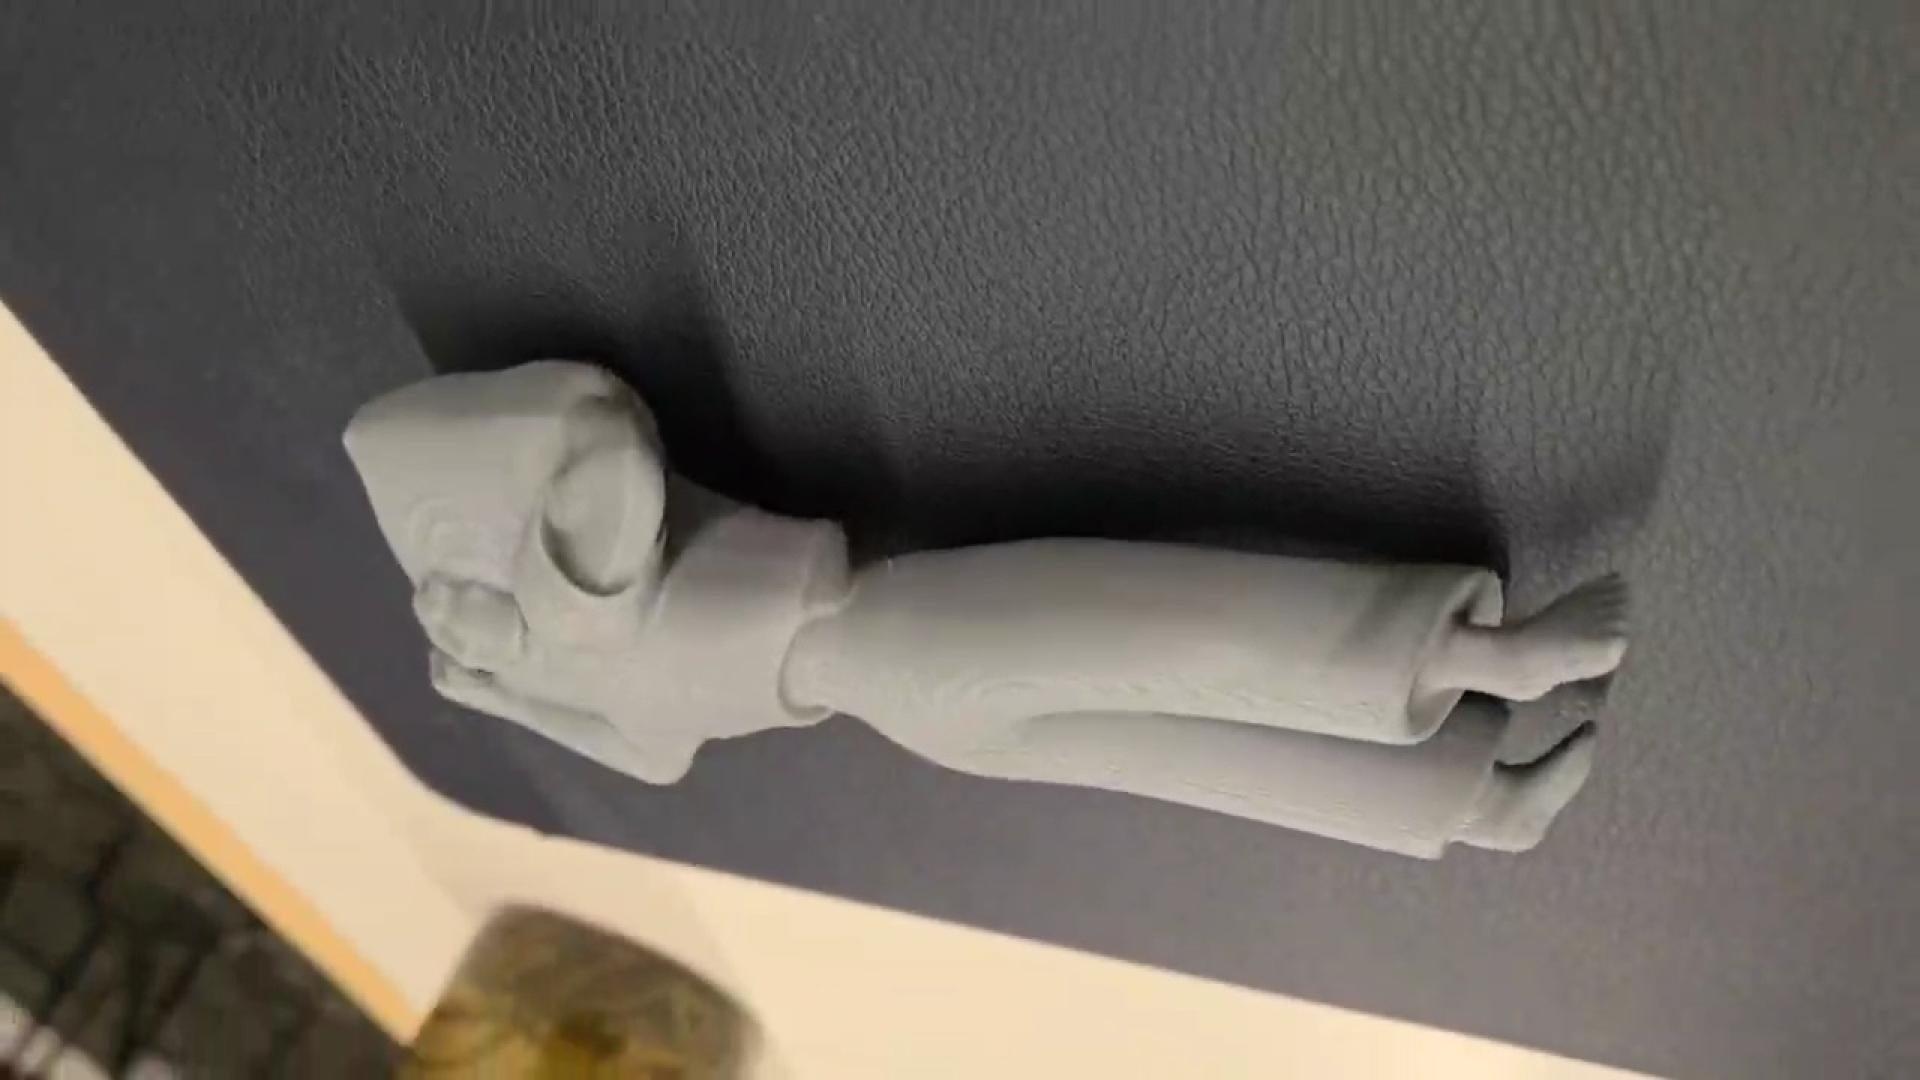Bad-style: (339, 357, 1651, 876)
